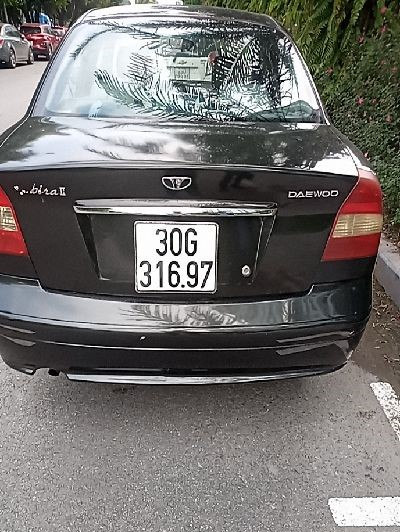number_plate: (101, 212, 248, 310)
